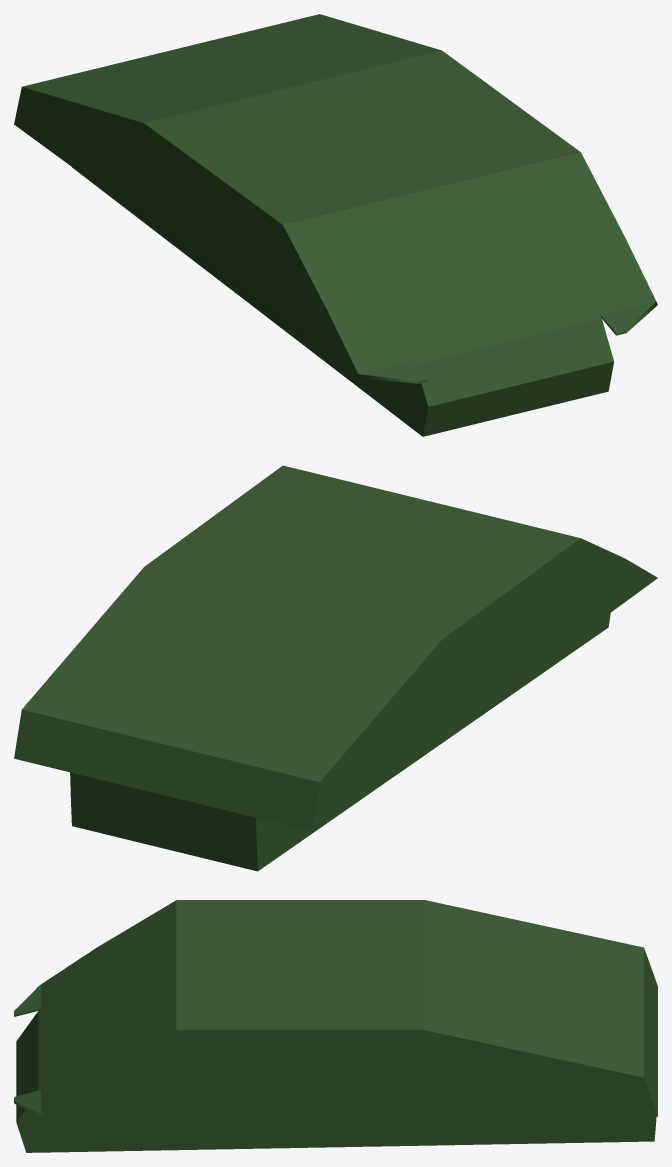
The model's file is Sherman Body.fbx.
3 views of the same model, one above another, from view 1: azimuth 30°, elevation 25°; view 2: azimuth 150°, elevation 25°; view 3: azimuth 270°, elevation 25° (orthographic). The views are drawn at different scales.
Visible parts, largest first — view 1: Hull; view 2: Hull; view 3: Hull.
Part boxes in pixels (bbox=[...]): Hull: bbox=[14, 14, 657, 436]; Hull: bbox=[14, 465, 657, 871]; Hull: bbox=[14, 900, 657, 1152].
Bounding box in the file's own units: 3.37 × 1.78 × 7.05.
